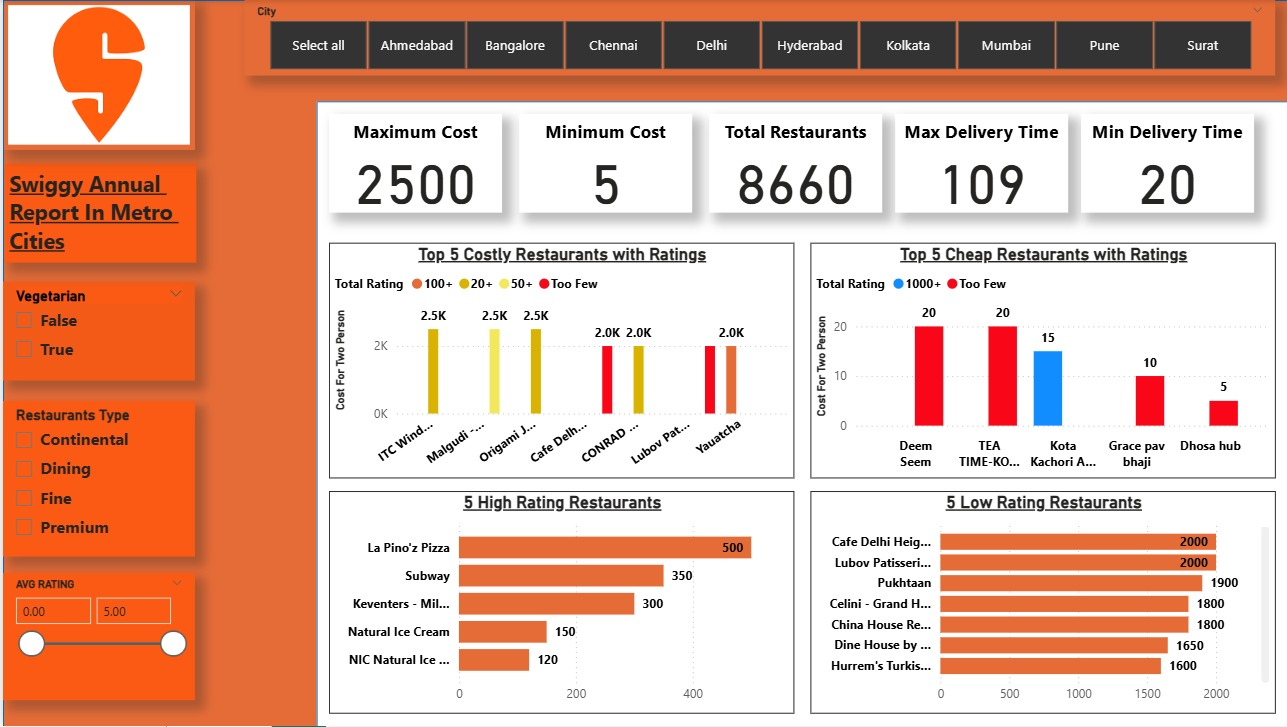

Layout of this report page (visuals, bound fields, positions):
{"tool":"powerbi","page":{"name":"Page 1","canvas":[1280,720],"ordinal":0},"visuals":[{"type":"shape","box":[3.8,0,1270.6,720.9],"z":0},{"type":"shape","box":[0,0,1280,720.9],"z":1000},{"type":"shape","box":[310.6,99.8,963.8,621.2],"z":2000},{"type":"card","fields":{"Values":["Max(Table1.costForTwoPerson)"]},"box":[323.8,112.9,171.3,97.9],"z":3000},{"type":"card","fields":{"Values":["Min(Table1.costForTwoPerson)"]},"box":[512,112.9,171.3,97.9],"z":4000},{"type":"card","fields":{"Values":["CountNonNull(Table1.id)"]},"box":[700.2,112.9,171.3,97.9],"z":5000},{"type":"card","fields":{"Values":["Max(Table1.maxDeliveryTime)"]},"box":[884.7,112.9,171.3,97.9],"z":6000},{"type":"card","fields":{"Values":["Min(Table1.maxDeliveryTime)"]},"box":[1069.2,112.9,171.3,97.9],"z":7000},{"type":"clusteredColumnChart","title":"Top 5 Costly Restaurants with Ratings","fields":{"Category":["Table1.name"],"Y":["Sum(Table1.costForTwoPerson)"],"Series":["Table1.totalRatingsString"]},"box":[323.8,240.9,461.2,233.4],"z":8000},{"type":"clusteredColumnChart","title":"Top 5 Cheap Restaurants with Ratings","fields":{"Category":["Table1.name"],"Y":["Sum(Table1.costForTwoPerson)"],"Series":["Table1.totalRatingsString"]},"box":[800,240.9,461.2,233.4],"z":9000},{"type":"barChart","title":"5 High Rating Restaurants","fields":{"Category":["Table1.name"],"Y":["Max(Table1.costForTwoPerson)"]},"box":[323.8,487.5,461.2,220.2],"z":10000},{"type":"barChart","title":"5 Low Rating Restaurants","fields":{"Category":["Table1.name"],"Y":["Max(Table1.costForTwoPerson)"]},"box":[800,487.5,461.2,220.2],"z":11000},{"type":"textbox","box":[1.9,161.9,190.1,97.9],"z":12000},{"type":"slicer","fields":{"Values":["Table1.city"]},"box":[239.1,0,1022.1,75.3],"z":13000},{"type":"slicer","fields":{"Values":["Table1.Vegetarian"]},"box":[0,278.6,190.1,97.9],"z":14000},{"type":"slicer","fields":{"Values":["Table1.Restaurants Type"]},"box":[0,397.2,190.1,154.4],"z":15000},{"type":"slicer","fields":{"Values":["Table1.avgRating"]},"box":[0,568.5,190.1,126.1],"z":16000},{"type":"image","box":[0,0,190.1,148.7],"z":17000}]}

Visuals, with their boxes in screenshot pixels (x1, y1, x2, y2), scaled from the page's 1280x720 canvas onto the 1287x727 screenshot:
shape: [4,0,1281,726]
shape: [0,0,1286,726]
shape: [312,101,1281,726]
card - Max(Table1.costForTwoPerson): [326,114,498,213]
card - Min(Table1.costForTwoPerson): [515,114,687,213]
card - CountNonNull(Table1.id): [704,114,876,213]
card - Max(Table1.maxDeliveryTime): [890,114,1062,213]
card - Min(Table1.maxDeliveryTime): [1075,114,1247,213]
"Top 5 Costly Restaurants with Ratings" clusteredColumnChart: [326,243,789,479]
"Top 5 Cheap Restaurants with Ratings" clusteredColumnChart: [804,243,1268,479]
"5 High Rating Restaurants" barChart: [326,492,789,715]
"5 Low Rating Restaurants" barChart: [804,492,1268,715]
textbox: [2,163,193,262]
slicer - Table1.city: [240,0,1268,76]
slicer - Table1.Vegetarian: [0,281,191,380]
slicer - Table1.Restaurants Type: [0,401,191,557]
slicer - Table1.avgRating: [0,574,191,701]
image: [0,0,191,150]
